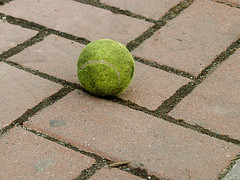tennis ball: (75, 38, 136, 100)
